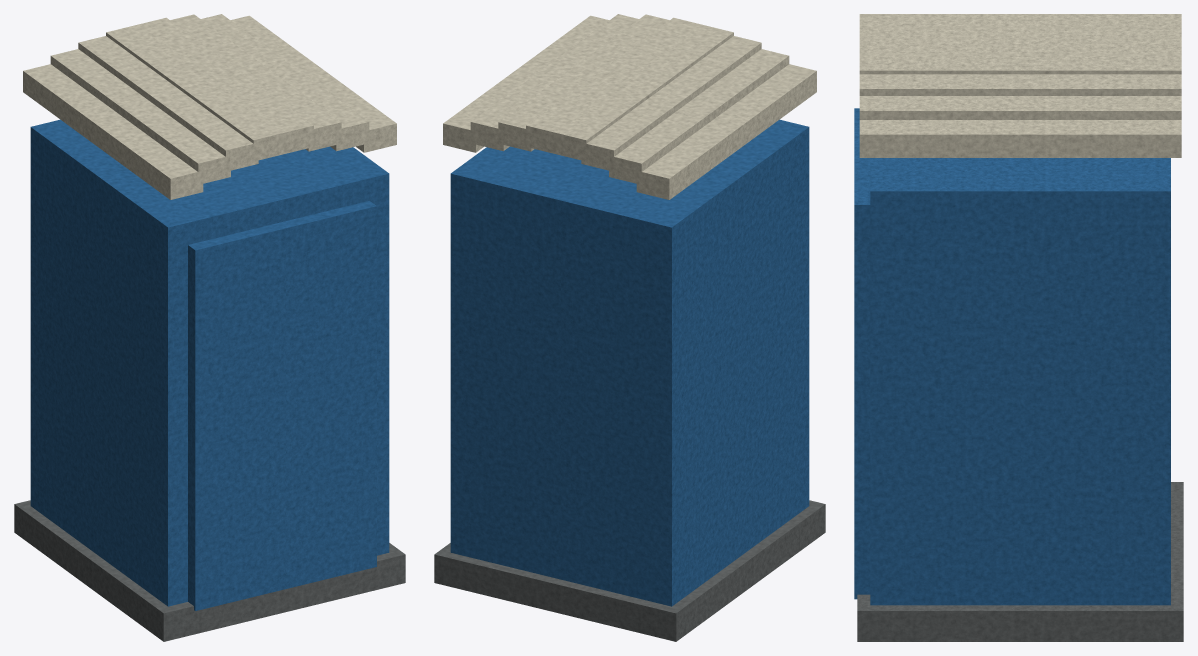
File: PORTLET2_lod2.glb
3 renders of one model, left to right at view 1: azimuth 30°, elevation 25°; view 2: azimuth 150°, elevation 25°; view 3: azimuth 270°, elevation 25°, orthographic. The views are drawn at different scales.
Parts seen in each view (by area): view 1: PORTLET2_LOD2; view 2: PORTLET2_LOD2; view 3: PORTLET2_LOD2.
Boxes of the visible parts, left/top/right/bottom form: PORTLET2_LOD2: left=14, top=14, right=405, bottom=641; PORTLET2_LOD2: left=434, top=14, right=825, bottom=641; PORTLET2_LOD2: left=854, top=14, right=1183, bottom=641.
Bounding box in the file's own units: 1.42 × 2.69 × 1.54.
3 materials, 3 textured.
